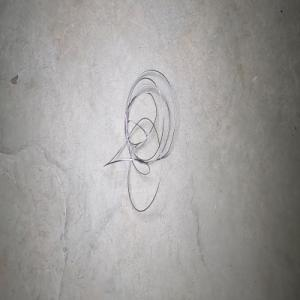Wire: (103, 68, 175, 211)
